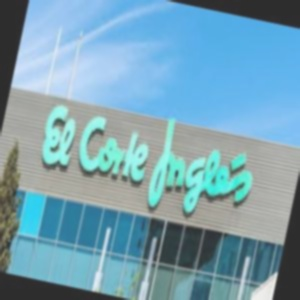corte_ingles: (255, 48, 284, 145)
